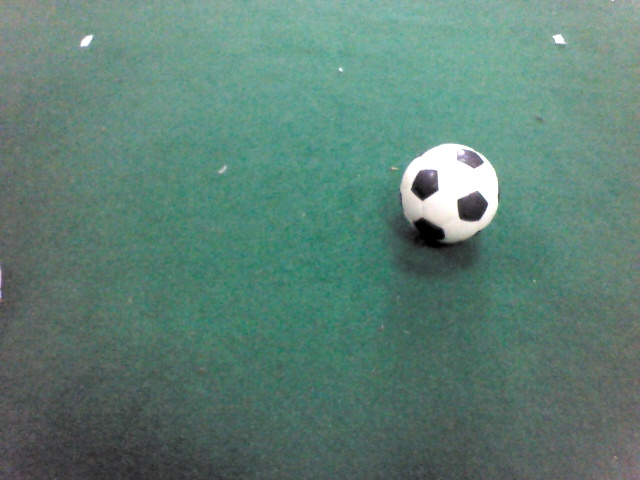ball: (397, 140, 500, 246)
